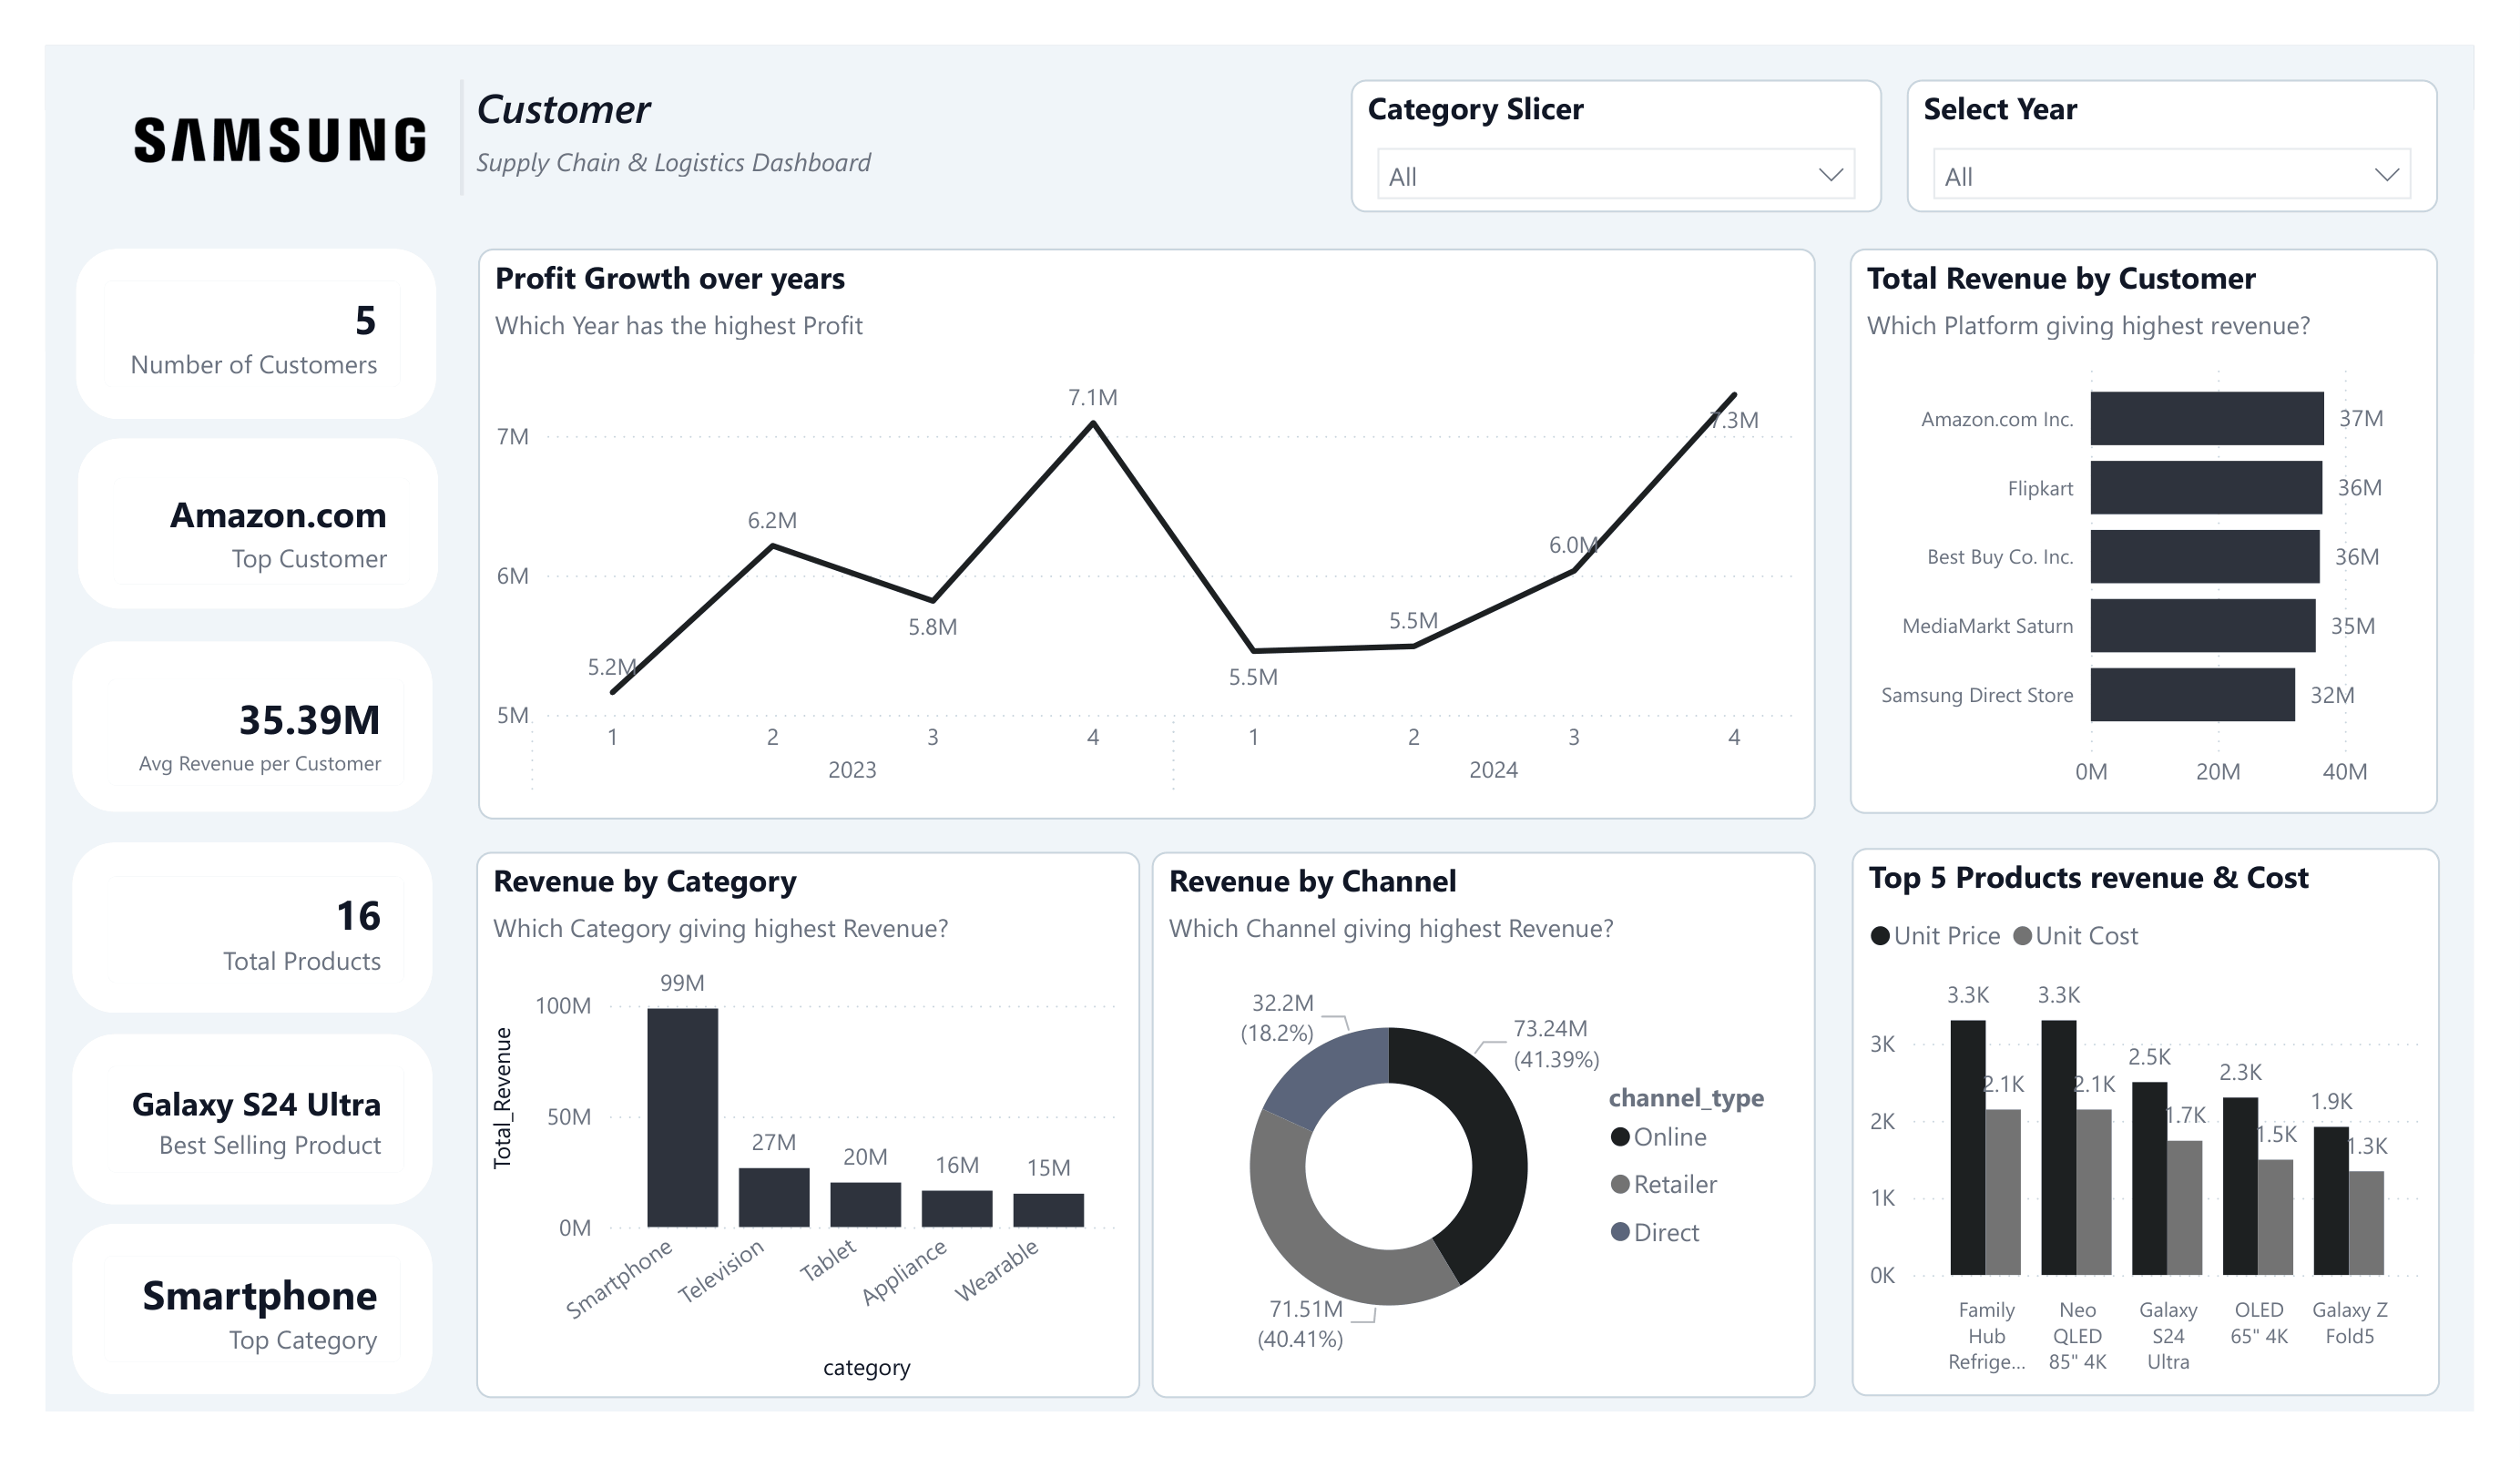

Layout of this report page (visuals, bound fields, positions):
{"tool":"powerbi","page":{"name":"Customer & Product","canvas":[1280,720],"ordinal":5},"visuals":[{"type":"shape","box":[14.3,621.4,190,90],"z":0},{"type":"shape","box":[14.3,521.4,190,90],"z":1000},{"type":"shape","box":[14.3,420,190,90],"z":2000},{"type":"shape","box":[14.3,314.3,190,90],"z":3000},{"type":"shape","box":[17.1,207.1,190,90],"z":4000},{"type":"shape","box":[15.7,107.1,190,90],"z":5000},{"type":"shape","title":"Customer","box":[227.4,18.3,221.3,61.1],"z":6000},{"type":"shape","box":[166.3,18.3,106.4,61.1],"z":7000},{"type":"image","box":[35.5,13.5,170,72.1],"z":8000},{"type":"cardVisual","fields":{"Data":["Min(dim_customer.customer_name)"]},"box":[18.6,211.4,190,90],"z":9000},{"type":"cardVisual","fields":{"Data":["MeasuresTable.Avg Revenue per Customer"]},"box":[15.7,317.1,190,90],"z":10000},{"type":"cardVisual","fields":{"Data":["MeasuresTable.Best Selling Product"]},"box":[15.7,521.4,190,90],"z":11000},{"type":"cardVisual","fields":{"Data":["CountNonNull(dim_product.product_id)"]},"box":[15.7,421.4,190,90],"z":12000},{"type":"cardVisual","fields":{"Data":["MeasuresTable.Top Category"]},"box":[14.3,621.4,190,90],"z":13000},{"type":"barChart","title":"Total Revenue by Customer","fields":{"Y":["MeasuresTable.Total_Revenue"],"Category":["dim_customer.customer_name"]},"box":[950.7,107.4,310.1,298],"z":14000},{"type":"cardVisual","fields":{"Data":["CountNonNull(dim_customer.customer_id)"]},"box":[14.3,107.1,190,90],"z":15000},{"type":"columnChart","title":"Revenue by Category","fields":{"Category":["dim_product.category"],"Y":["MeasuresTable.Total_Revenue"]},"box":[226.8,424.7,350,288.3],"z":16000},{"type":"donutChart","title":"Revenue by Channel","fields":{"Category":["dim_customer.channel_type"],"Y":["MeasuresTable.Total_Revenue"]},"box":[582.7,424.7,349.9,288.3],"z":17000},{"type":"lineChart","title":"Profit Growth over years","fields":{"Category":["dim_date.year","dim_date.quarter"],"Y":["MeasuresTable.Profit"]},"box":[228,107.4,704.6,300.4],"z":18000},{"type":"clusteredColumnChart","title":"Top 5 Products revenue & Cost","fields":{"Category":["dim_product.product_name"],"Y":["Sum(dim_product.unit_price)","Sum(dim_product.unit_cost)"]},"box":[952.3,422.6,310.1,289.5],"z":19000},{"type":"slicer","title":"Select Year","fields":{"Values":["dim_date.date.Variation.Date Hierarchy.Year","dim_date.date.Variation.Date Hierarchy.Quarter","dim_date.date.Variation.Date Hierarchy.Month","dim_date.date.Variation.Date Hierarchy.Day"]},"box":[980.8,18.1,279.9,70],"z":20000},{"type":"slicer","title":"Category Slicer","fields":{"Values":["dim_product.category"]},"box":[687.7,18.1,279.9,70],"z":21000}]}

Visuals, with their boxes on the page's 1280x720 design canvas (x1, y1, x2, y2). These are canvas units, not pixel positions in the 2520x1457 screenshot, which may show the page scaled, cropped or inside an application window:
shape: <bbox>14, 621, 204, 711</bbox>
shape: <bbox>14, 521, 204, 611</bbox>
shape: <bbox>14, 420, 204, 510</bbox>
shape: <bbox>14, 314, 204, 404</bbox>
shape: <bbox>17, 207, 207, 297</bbox>
shape: <bbox>16, 107, 206, 197</bbox>
"Customer" shape: <bbox>227, 18, 449, 79</bbox>
shape: <bbox>166, 18, 273, 79</bbox>
image: <bbox>36, 14, 206, 86</bbox>
cardVisual - Min(dim_customer.customer_name): <bbox>19, 211, 209, 301</bbox>
cardVisual - MeasuresTable.Avg Revenue per Customer: <bbox>16, 317, 206, 407</bbox>
cardVisual - MeasuresTable.Best Selling Product: <bbox>16, 521, 206, 611</bbox>
cardVisual - CountNonNull(dim_product.product_id): <bbox>16, 421, 206, 511</bbox>
cardVisual - MeasuresTable.Top Category: <bbox>14, 621, 204, 711</bbox>
"Total Revenue by Customer" barChart: <bbox>951, 107, 1261, 405</bbox>
cardVisual - CountNonNull(dim_customer.customer_id): <bbox>14, 107, 204, 197</bbox>
"Revenue by Category" columnChart: <bbox>227, 425, 577, 713</bbox>
"Revenue by Channel" donutChart: <bbox>583, 425, 933, 713</bbox>
"Profit Growth over years" lineChart: <bbox>228, 107, 933, 408</bbox>
"Top 5 Products revenue & Cost" clusteredColumnChart: <bbox>952, 423, 1262, 712</bbox>
"Select Year" slicer: <bbox>981, 18, 1261, 88</bbox>
"Category Slicer" slicer: <bbox>688, 18, 968, 88</bbox>
